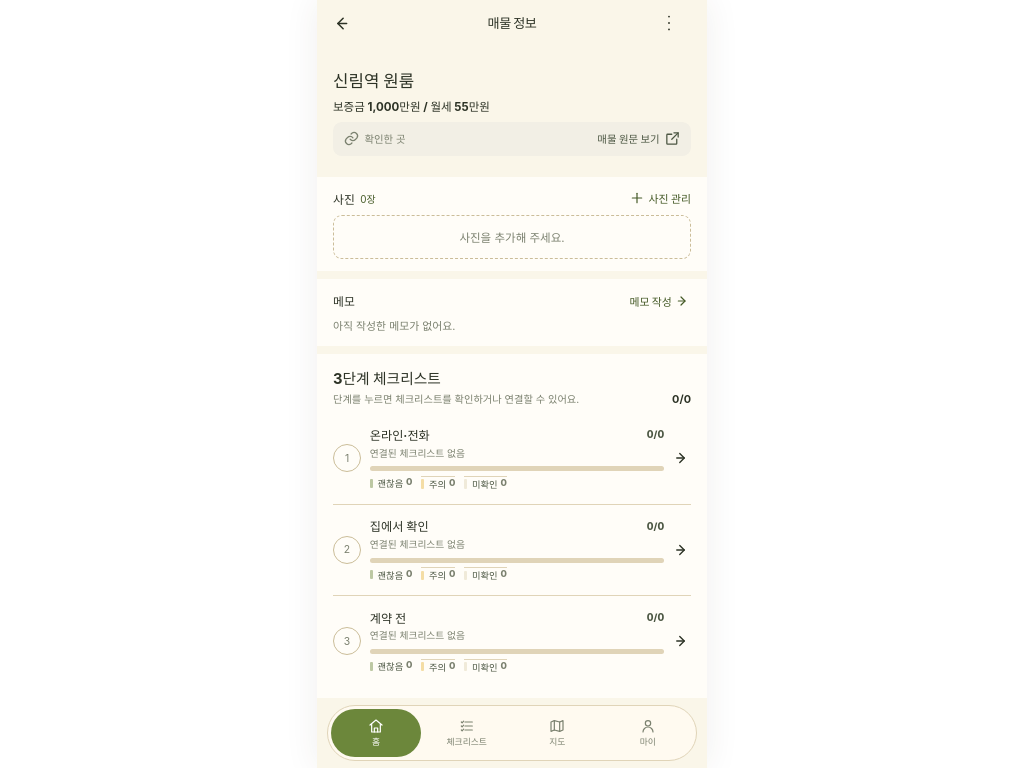
Test: FE-2 사진과 삭제 확인 › PHOTO_DELETE_FAILED인 매물은 상세에 유지한다
The width and height of the screenshot is (1024, 768).
Click the heading named "매물 메뉴 열기" at (669, 23), box [658, 12, 680, 34]
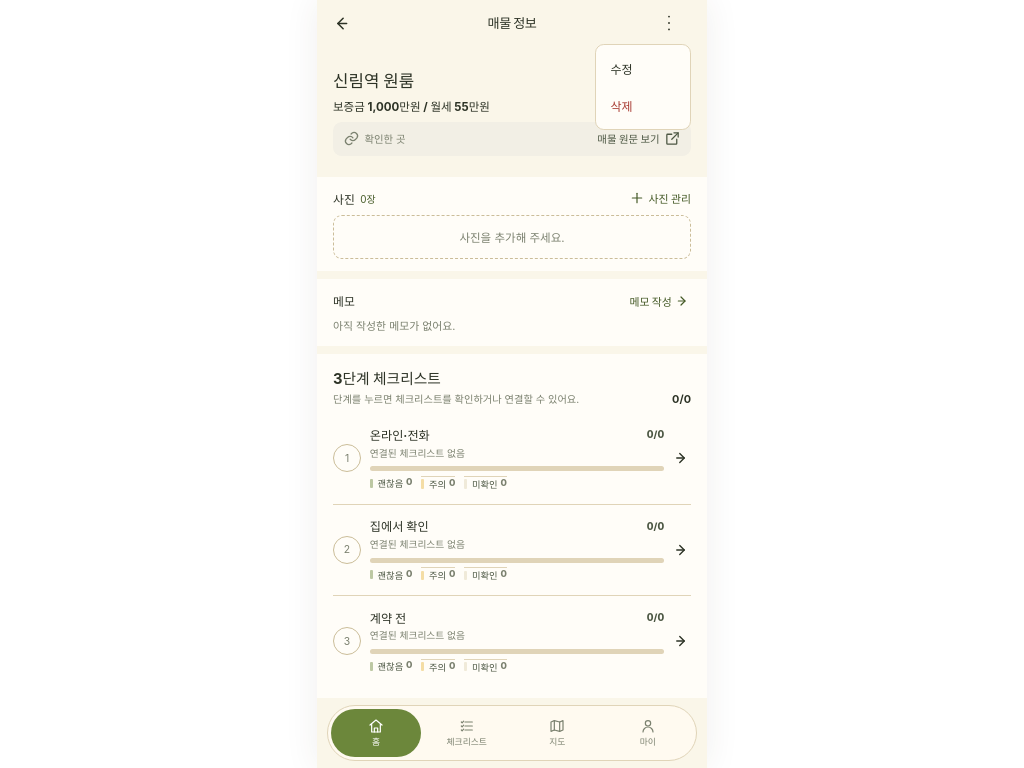
Click the button "삭제" at (643, 106), box [600, 87, 686, 125]
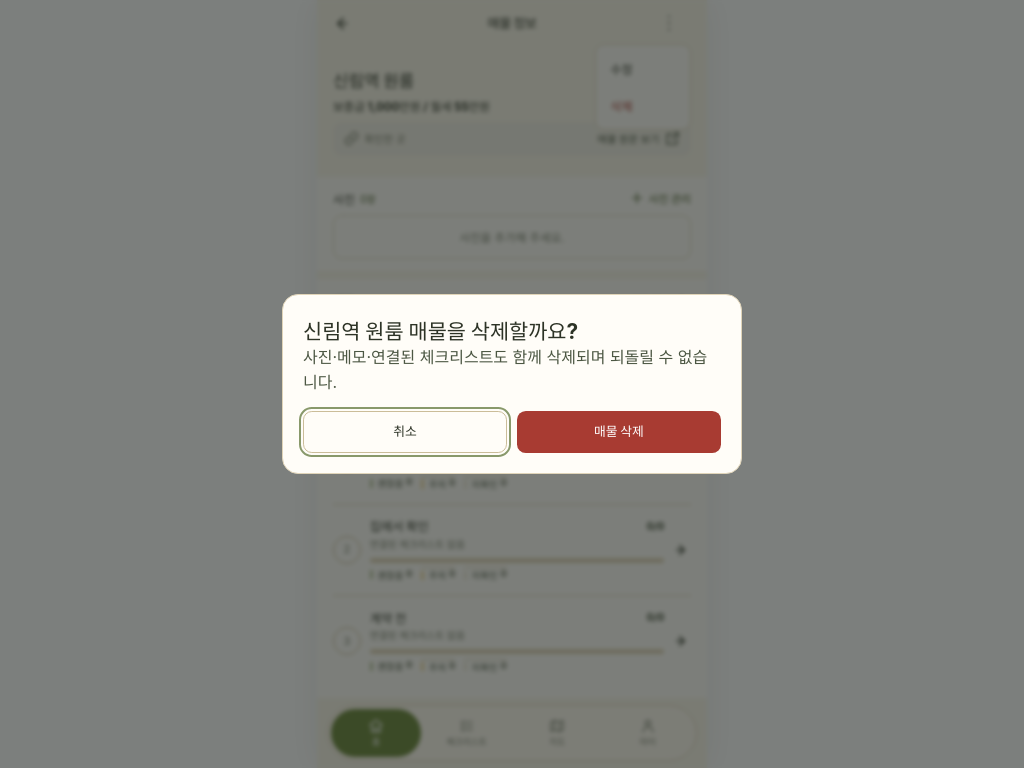
Click the button "매물 삭제" at (619, 432), box [517, 411, 721, 453]
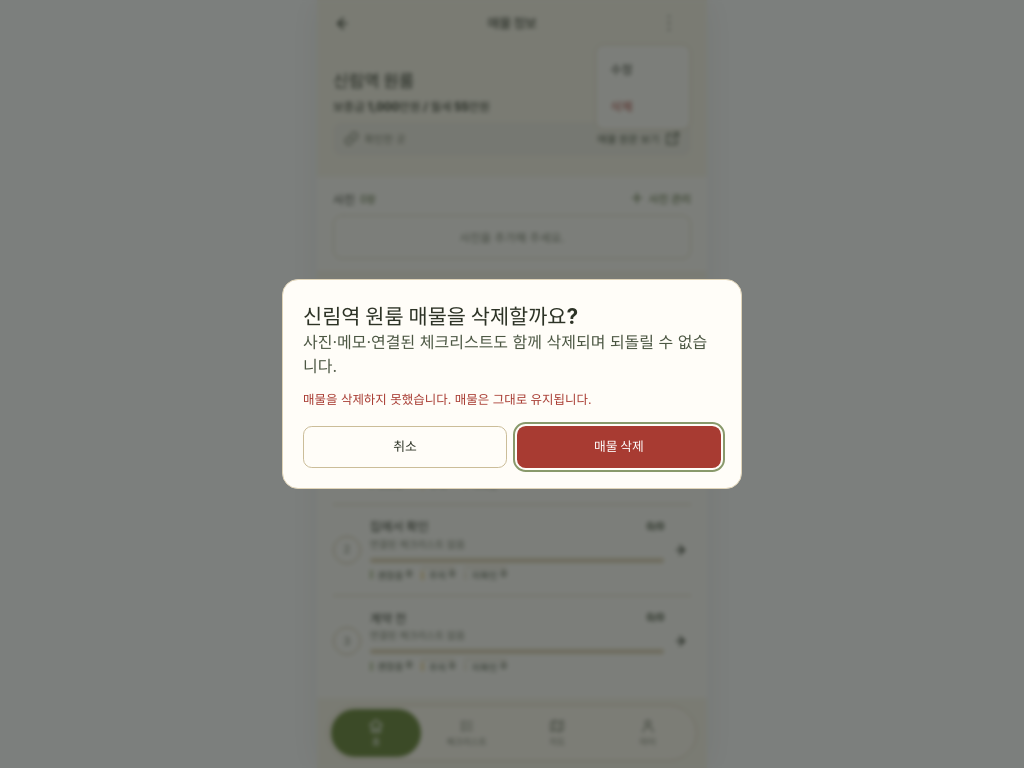
Expected: the heading "신림역 원룸" is shown, [333, 71, 414, 91]
Now the text "매물을 삭제하지 못했습니다. 매물은 그대로 유지됩니다." is shown, box [303, 392, 592, 407]
